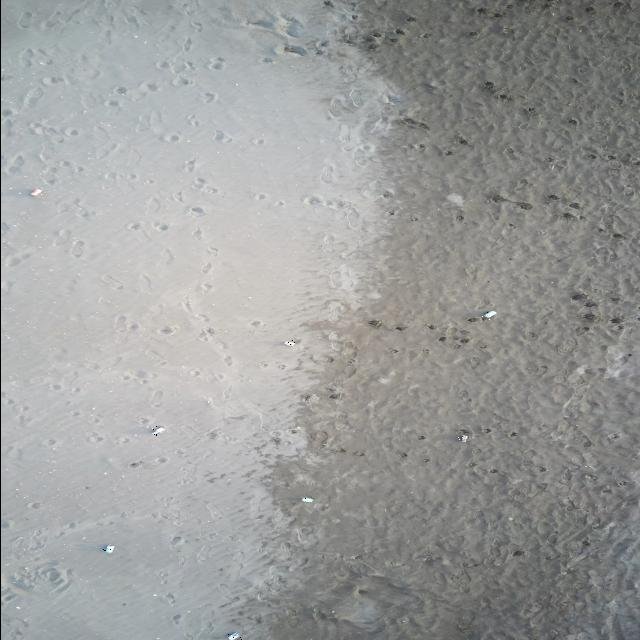Garbage: (446, 193, 463, 207), (480, 310, 495, 319), (367, 319, 382, 327), (151, 426, 164, 435), (101, 544, 114, 552), (456, 433, 467, 442), (32, 187, 43, 196), (227, 632, 240, 639), (283, 339, 295, 346), (303, 496, 312, 502)
